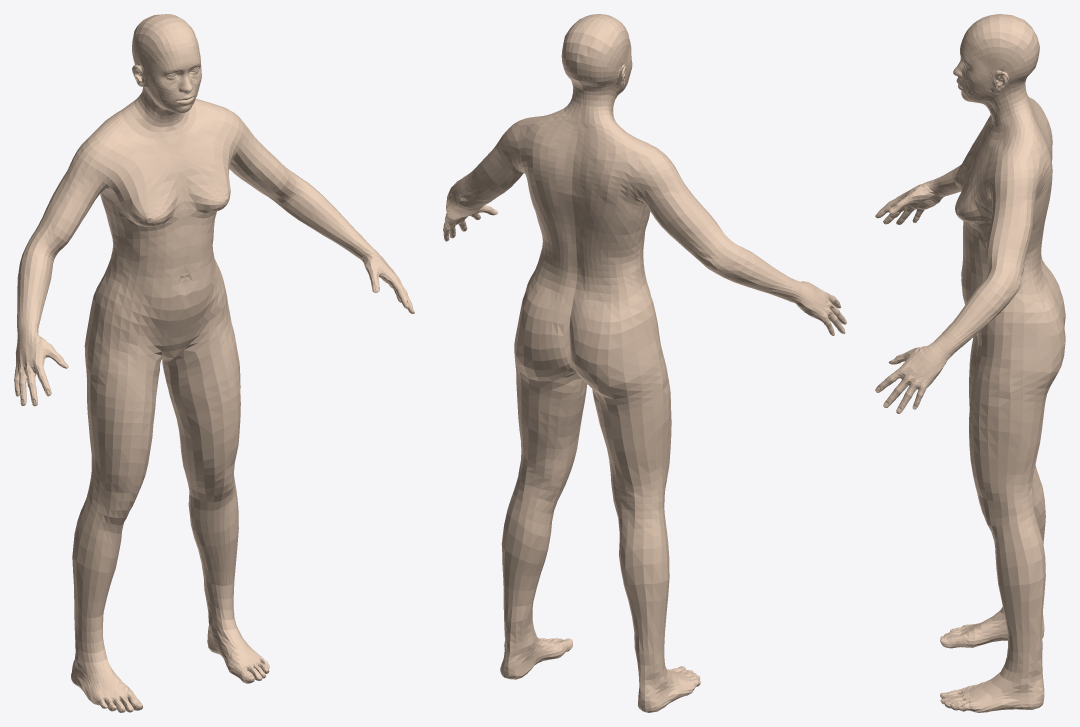
File: female-mature-heavy-strong.glb
3 views of the same model, side by side, from view 1: azimuth 30°, elevation 25°; view 2: azimuth 150°, elevation 25°; view 3: azimuth 270°, elevation 25° (orthographic).
Visible parts, largest first — view 1: world; view 2: world; view 3: world.
Boxes of the visible parts, <box> form: world: <box>14,14,414,712</box>; world: <box>443,14,846,712</box>; world: <box>875,14,1065,712</box>.
Size of the model in its own units: 1.13 by 1.82 by 0.4789.
